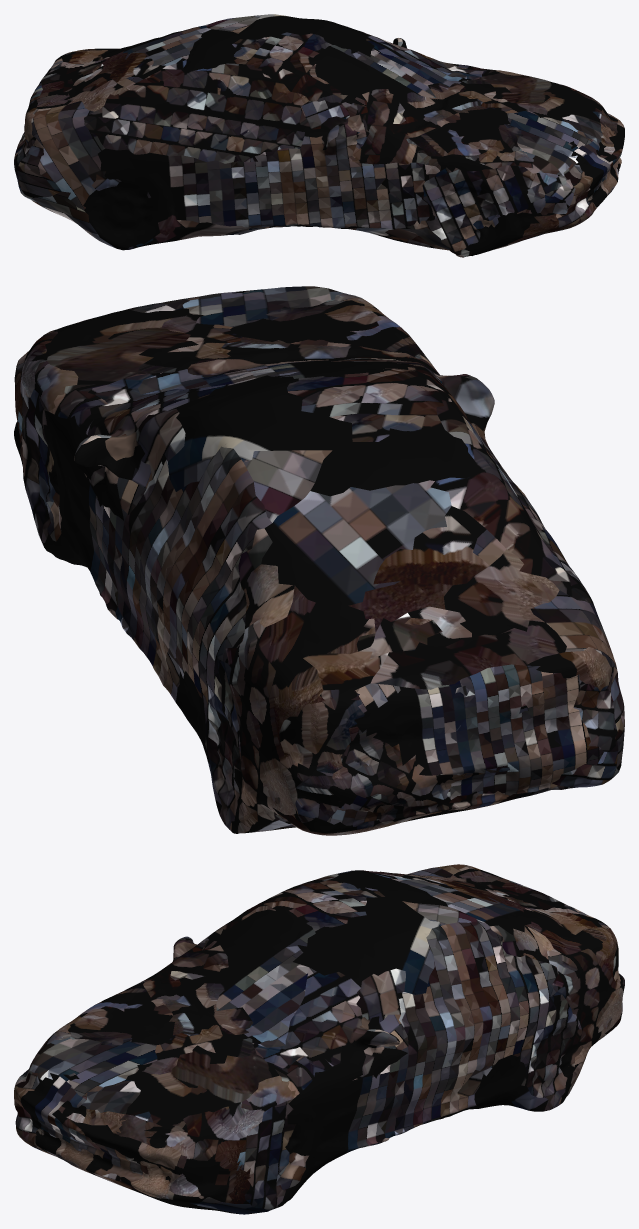
Rendered from 3DModel.obj.
The picture shows the model from 3 angles, top to bottom: view 1: azimuth 30°, elevation 25°; view 2: azimuth 150°, elevation 25°; view 3: azimuth 270°, elevation 25°; orthographic projection. The views are drawn at different scales.
Visible parts, largest first — view 1: 3DModel; view 2: 3DModel; view 3: 3DModel.
Part boxes in pixels (<box>): 3DModel: <box>14,14,624,257</box>; 3DModel: <box>14,286,624,835</box>; 3DModel: <box>14,864,624,1214</box>.
Bounding box in the file's own units: 0.5787 × 0.216 × 0.5472.
